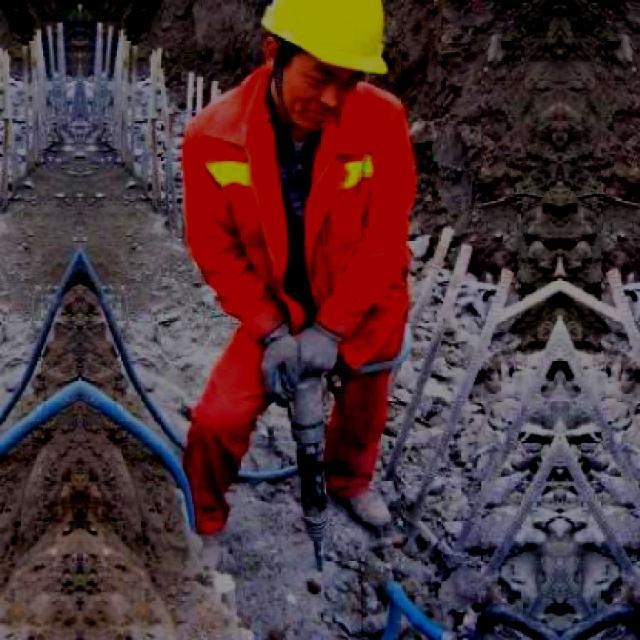safetyhelmet: (252, 0, 400, 101)
